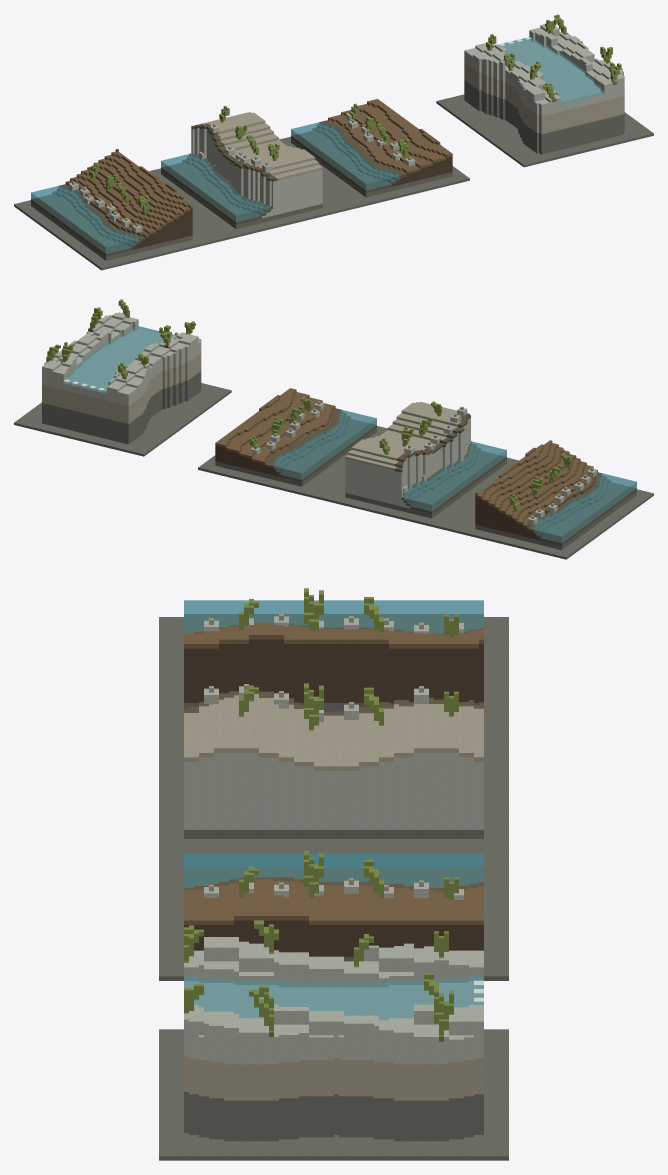
The picture shows the model from 3 angles, top to bottom: view 1: azimuth 30°, elevation 25°; view 2: azimuth 150°, elevation 25°; view 3: azimuth 270°, elevation 25°; orthographic projection. The views are drawn at different scales.
Parts seen in each view (by area): view 1: 自然缓岸与陡岸断面族 (×3), 上游来水与瀑口岩唇组件, 明确作者承托岩地（辅助；非原terrainHeight）, 小源溪另设实岩地; view 2: 自然缓岸与陡岸断面族 (×3), 上游来水与瀑口岩唇组件, 明确作者承托岩地（辅助；非原terrainHeight）, 小源溪另设实岩地; view 3: 自然缓岸与陡岸断面族 (×3), 上游来水与瀑口岩唇组件, 明确作者承托岩地（辅助；非原terrainHeight）, 小源溪另设实岩地.
Boxes of the visible parts, x1,y1,x2,y2 form: 自然缓岸与陡岸断面族 (×3): [31, 99, 452, 260]; 上游来水与瀑口岩唇组件: [464, 14, 624, 154]; 明确作者承托岩地（辅助；非原terrainHeight）: [14, 136, 469, 270]; 小源溪另设实岩地: [436, 94, 653, 167]; 自然缓岸与陡岸断面族 (×3): [215, 388, 636, 550]; 上游来水与瀑口岩唇组件: [42, 299, 201, 444]; 明确作者承托岩地（辅助；非原terrainHeight）: [198, 426, 653, 559]; 小源溪另设实岩地: [14, 383, 231, 456]; 自然缓岸与陡岸断面族 (×3): [184, 588, 483, 961]; 上游来水与瀑口岩唇组件: [184, 920, 483, 1141]; 明确作者承托岩地（辅助；非原terrainHeight）: [159, 617, 508, 980]; 小源溪另设实岩地: [159, 1029, 508, 1160].
Bounding box in the file's own units: 51 × 6.6 × 14.
10 materials, 8 textured.
